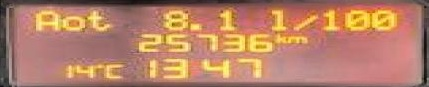-: (185, 21, 201, 29)
0: (340, 9, 370, 30), (369, 8, 394, 29)
1: (215, 8, 234, 29), (320, 8, 337, 29), (144, 58, 155, 78), (63, 63, 71, 78)
2: (134, 33, 161, 52)
3: (158, 57, 185, 78), (218, 33, 245, 52)
4: (199, 57, 229, 77), (71, 63, 93, 78)
5: (161, 33, 188, 52)
6: (244, 33, 269, 50)
7: (234, 57, 261, 77), (193, 33, 217, 50)
8: (160, 9, 185, 29)
X: (31, 9, 58, 30), (84, 9, 109, 30), (291, 14, 318, 30), (57, 15, 82, 30), (266, 8, 283, 29), (101, 63, 122, 78), (282, 34, 307, 43), (272, 32, 283, 43)
